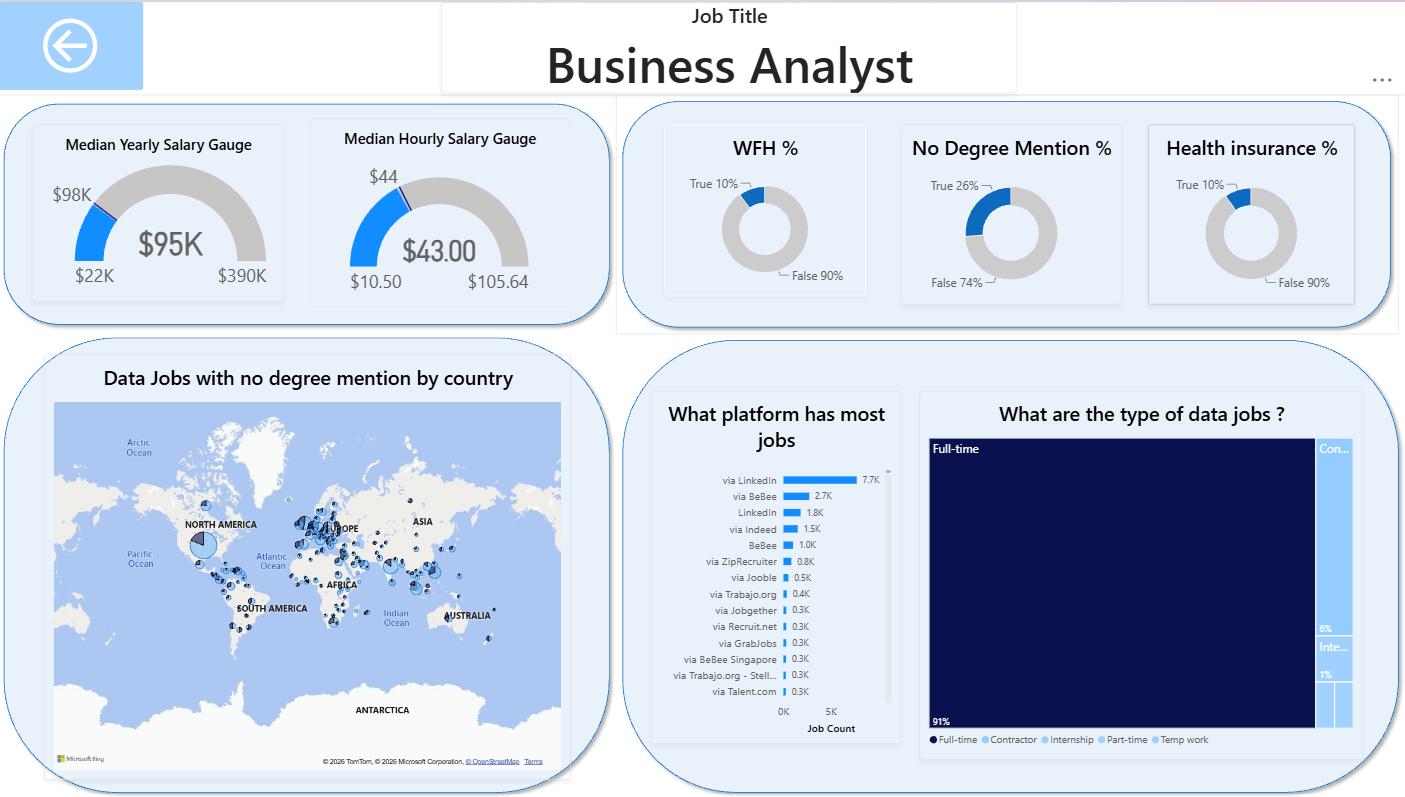

What the dashboard file says about the page in this screenshot:
{"tool":"powerbi","page":{"name":"Job Title Drill through","canvas":[1920,1080],"ordinal":1},"visuals":[{"type":"group","id":"g1","title":"Background","box":[0,125.2,1909.2,955.9],"z":0},{"type":"shape","box":[839.1,125.2,1059.2,324.8],"z":0,"group":"g1"},{"type":"cardVisual","fields":{"Data":["Min(job_postings_flat.job_title_short)1"]},"box":[600.9,0,781.4,124.5],"z":1000},{"type":"shape","box":[0,445.7,839.1,635.2],"z":1000,"group":"g1"},{"type":"actionButton","box":[0,0,198.5,119.1],"z":2000},{"type":"shape","box":[839.1,449.5,1070.1,631.6],"z":2000,"group":"g1"},{"type":"shape","box":[0,128.1,839.1,317.6],"z":3000,"group":"g1"},{"type":"gauge","title":"Median Yearly Salary Gauge","fields":{"MaxValue":["Max(job_postings_flat.salary_year_avg)2"],"MinValue":["Min(job_postings_flat.salary_year_avg)1"],"TargetValue":["Avg(job_postings_flat.salary_year_avg)3"],"Y":["Median(job_postings_flat.salary_year_avg)"]},"box":[46.9,166,341.1,240],"z":3000},{"type":"donutChart","title":"WFH %","fields":{"Category":["job_postings_flat.job_work_from_home"],"Y":["CountNonNull(job_postings_flat.job_title_short)"]},"box":[904.1,166,272.5,232.8],"z":4000},{"type":"map","title":"Data Jobs with no degree mention by country","fields":{"Category":["job_postings_flat.job_country"],"Series":["job_postings_flat.job_no_degree_mention"],"Size":["CountNonNull(job_postings_flat.job_title_short)"]},"box":[65,499.8,712.8,526.9],"z":5000},{"type":"treemap","title":"What are the type of data jobs ?","fields":{"Group":["job_postings_flat.job_schedule_type"],"Values":["CountNonNull(job_postings_flat.job_title_short)"]},"box":[1250.5,526.9,600.9,499.8],"z":6000},{"type":"clusteredBarChart","title":"What platform has most jobs","fields":{"Category":["job_postings_flat.job_via"],"Y":["CountNonNull(job_postings_flat.job_title_short)"]},"box":[886,526.9,339.2,478.2],"z":7000},{"type":"gauge","title":"Median Hourly Salary Gauge","fields":{"MaxValue":["Max(job_postings_flat.salary_hour_avg)1"],"MinValue":["Min(job_postings_flat.salary_hour_avg)"],"TargetValue":["Avg(job_postings_flat.salary_hour_avg)2"],"Y":["Median(job_postings_flat.salary_hour_avg)"]},"box":[422.3,157,355.5,256.2],"z":8000},{"type":"donutChart","title":"No Degree Mention %","fields":{"Category":["job_postings_flat.job_no_degree_mention"],"Y":["CountNonNull(job_postings_flat.job_title_short)"]},"box":[1225.3,166,299.5,243.6],"z":9000},{"type":"donutChart","title":"Health insurance %","fields":{"Category":["job_postings_flat.job_health_insurance"],"Y":["CountNonNull(job_postings_flat.job_title_short)"]},"box":[1559.1,166,279.7,244],"z":10000}]}

Visuals, with their boxes in screenshot pixels (x1, y1, x2, y2), scaled from the page's 1920x1080 canvas onto the 1405x797 screenshot:
"Background" group: <box>0,92,1397,796</box>
shape: <box>614,92,1389,332</box>
cardVisual - Min(job_postings_flat.job_title_short)1: <box>440,0,1012,92</box>
shape: <box>0,329,614,796</box>
actionButton: <box>0,0,145,88</box>
shape: <box>614,332,1397,796</box>
shape: <box>0,95,614,329</box>
"Median Yearly Salary Gauge" gauge: <box>34,123,284,300</box>
"WFH %" donutChart: <box>662,123,861,294</box>
"Data Jobs with no degree mention by country" map: <box>48,369,569,758</box>
"What are the type of data jobs ?" treemap: <box>915,389,1355,758</box>
"What platform has most jobs" clusteredBarChart: <box>648,389,897,742</box>
"Median Hourly Salary Gauge" gauge: <box>309,116,569,305</box>
"No Degree Mention %" donutChart: <box>897,123,1116,302</box>
"Health insurance %" donutChart: <box>1141,123,1346,303</box>
